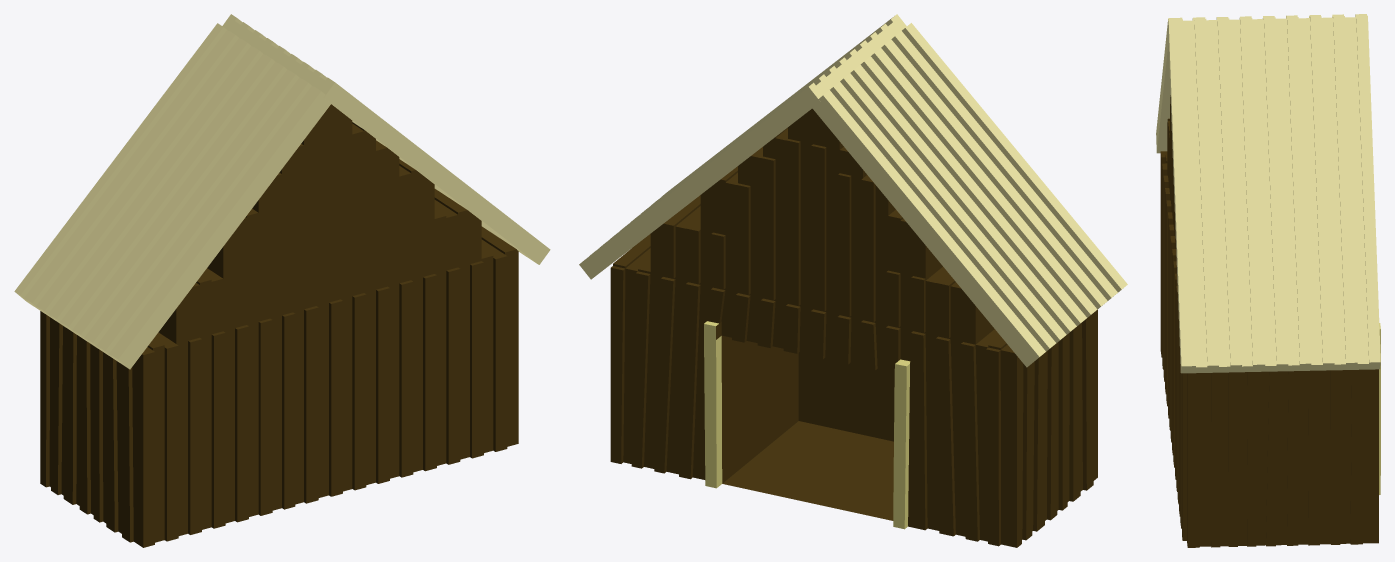
File: Warehouse.fbx
The picture shows the model from 3 angles, left to right: view 1: azimuth 30°, elevation 25°; view 2: azimuth 150°, elevation 25°; view 3: azimuth 270°, elevation 25°; orthographic projection. The views are drawn at different scales.
Parts seen in each view (by area): view 1: Cube.016; view 2: Cube.016; view 3: Cube.016.
Boxes of the visible parts, x1=… form: Cube.016: x1=14, y1=14, x2=550, y2=547; Cube.016: x1=579, y1=14, x2=1127, y2=547; Cube.016: x1=1156, y1=14, x2=1380, y2=547.
Bounding box in the file's own units: 477 × 418 × 198.
